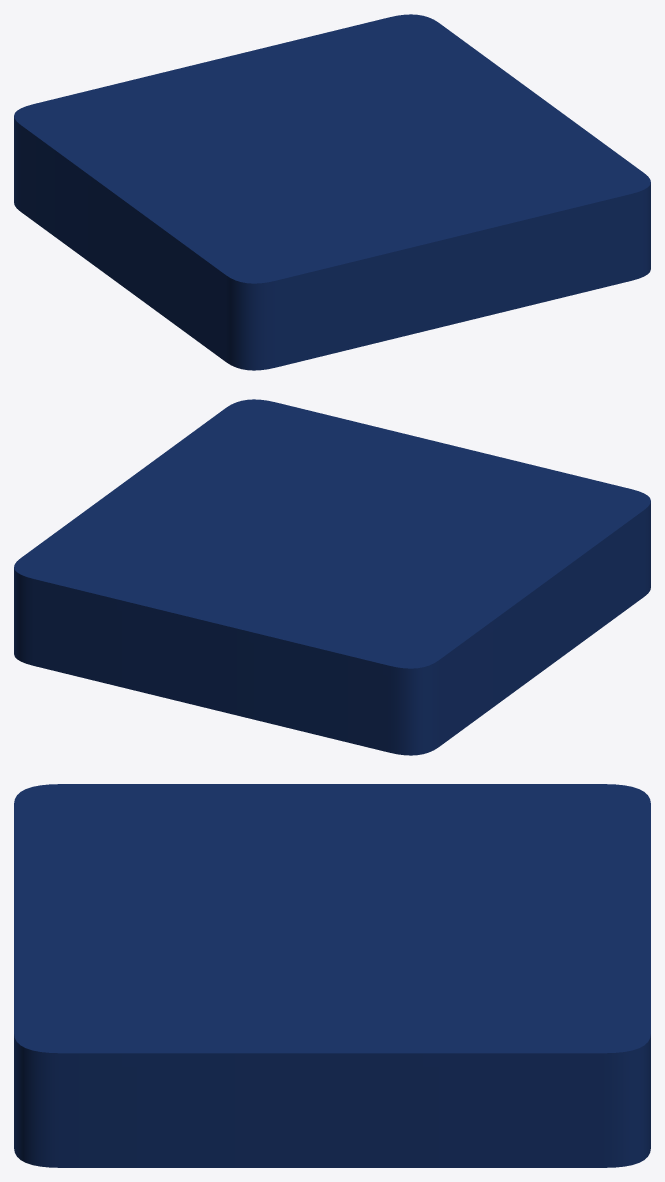
File: B_Stage_2.FBX
3 renders of one model, top to bottom at view 1: azimuth 30°, elevation 25°; view 2: azimuth 150°, elevation 25°; view 3: azimuth 270°, elevation 25°, orthographic. The views are drawn at different scales.
Parts seen in each view (by area): view 1: Stage_002; view 2: Stage_002; view 3: Stage_002.
Part boxes in pixels (bbox=[...]): Stage_002: bbox=[14, 14, 650, 370]; Stage_002: bbox=[14, 399, 650, 755]; Stage_002: bbox=[14, 784, 650, 1167].
Size of the model in its own units: 2190 by 435 by 2190.
